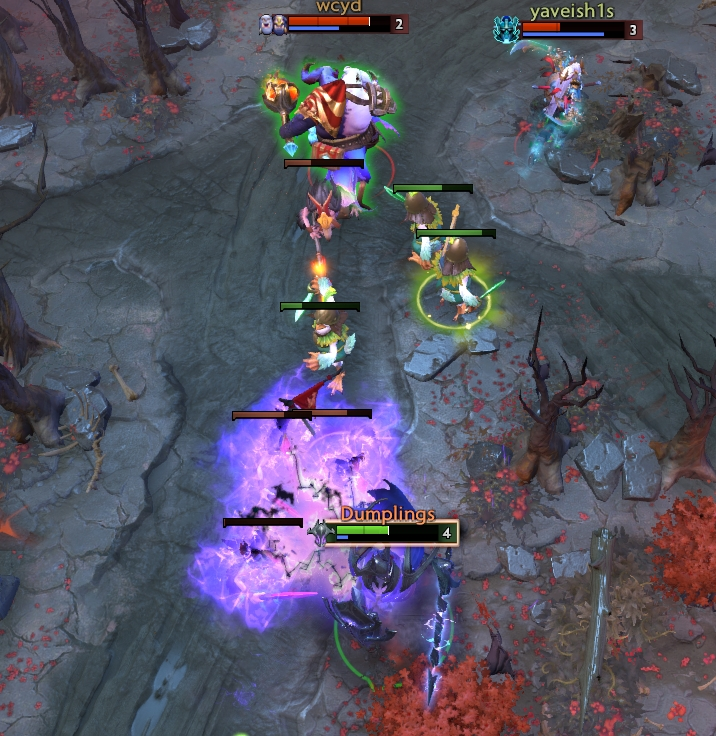allyCreep: (410, 223, 501, 240), (275, 298, 363, 312), (385, 180, 478, 193)
enemyCreep: (277, 150, 367, 171), (212, 510, 307, 528), (288, 405, 376, 419), (227, 408, 317, 419)
